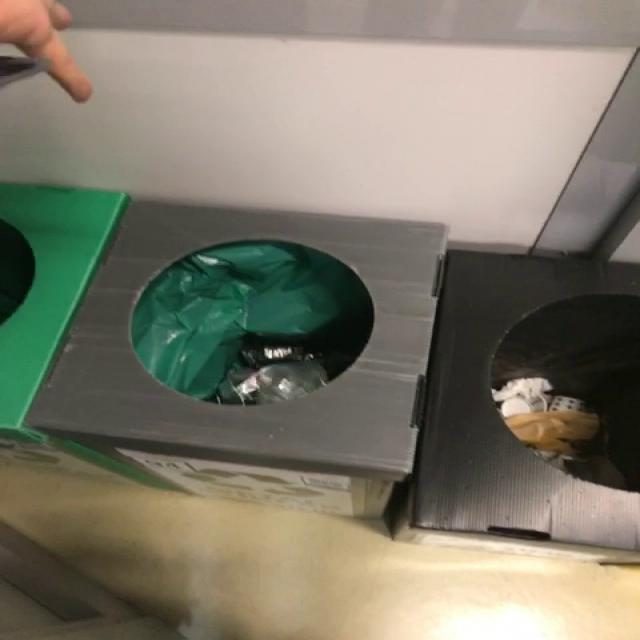bin: (27, 202, 640, 550)
metal: (219, 363, 327, 405)
